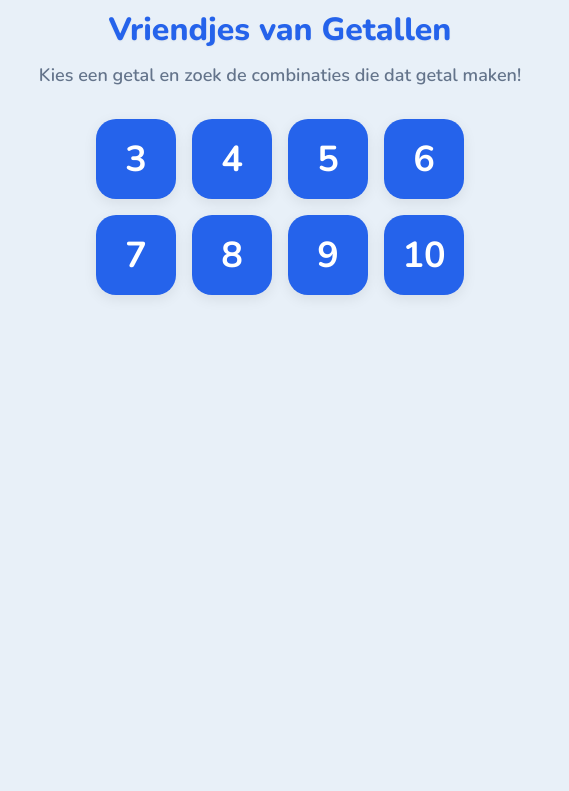
App › toont foutjesteller tijdens spel (Foutjes: 0)
This screenshot has width=569, height=791.
Step 1. Click the button named "getal 3 kiezen" → (136, 159), box [96, 119, 176, 199]
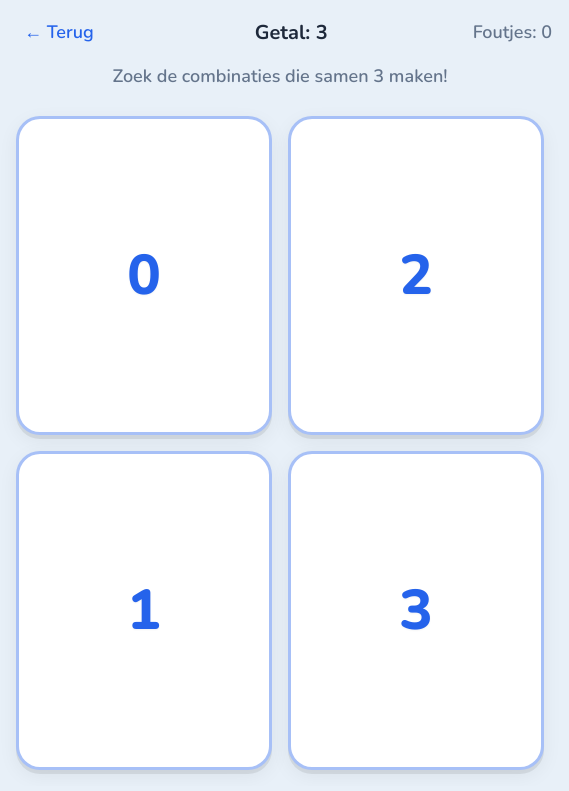
Now the text "Foutjes: 0" is shown, box [473, 20, 552, 44]
